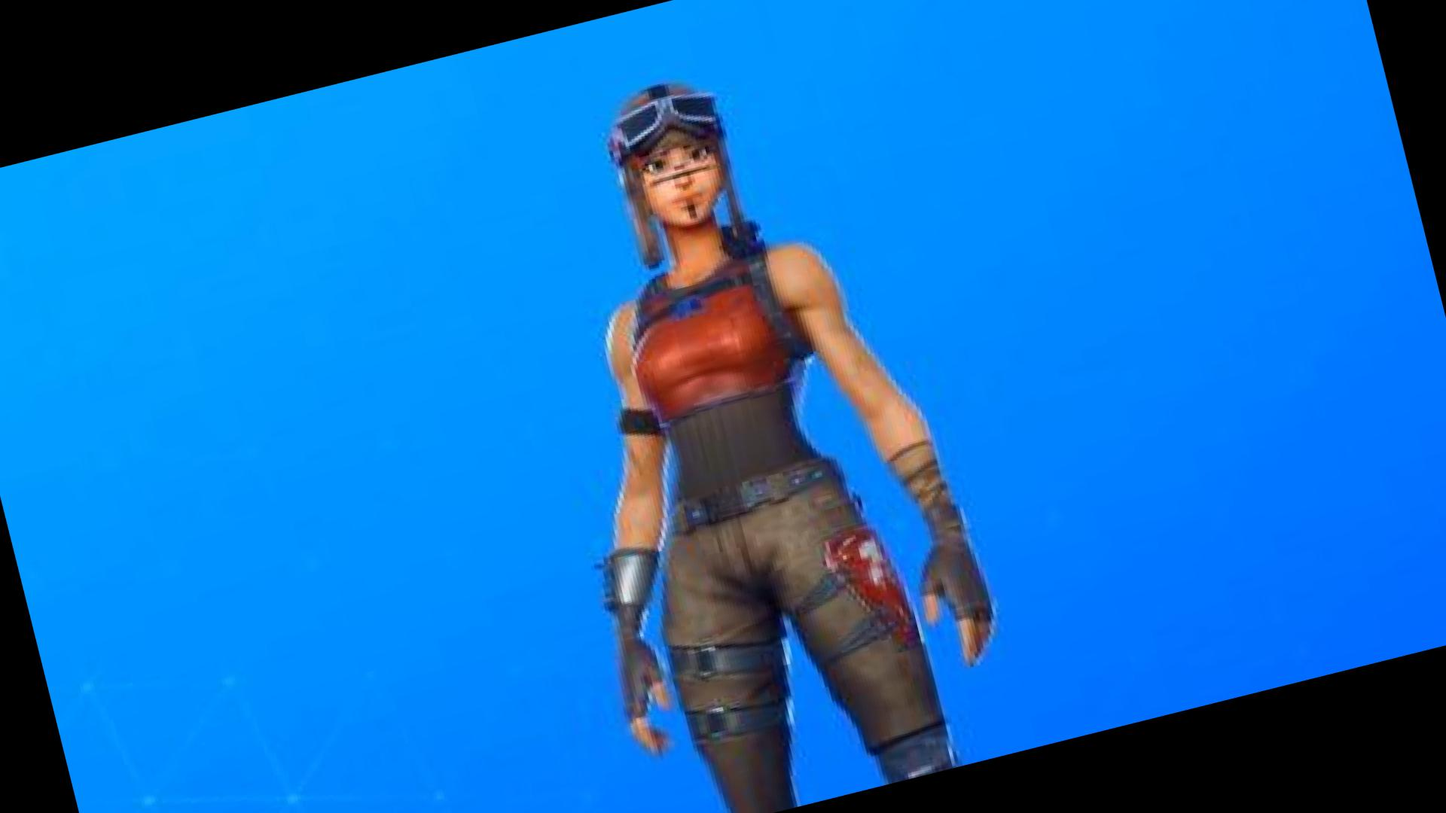player: (475, 29, 1036, 813)
